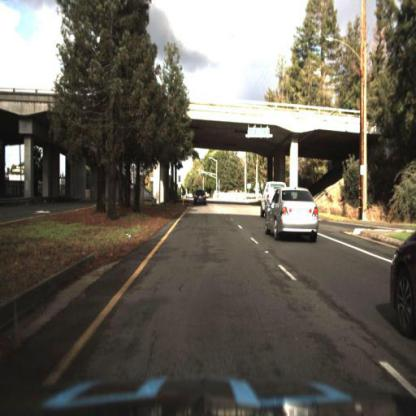car: (389, 213, 416, 353), (267, 190, 327, 242), (193, 188, 210, 211)
